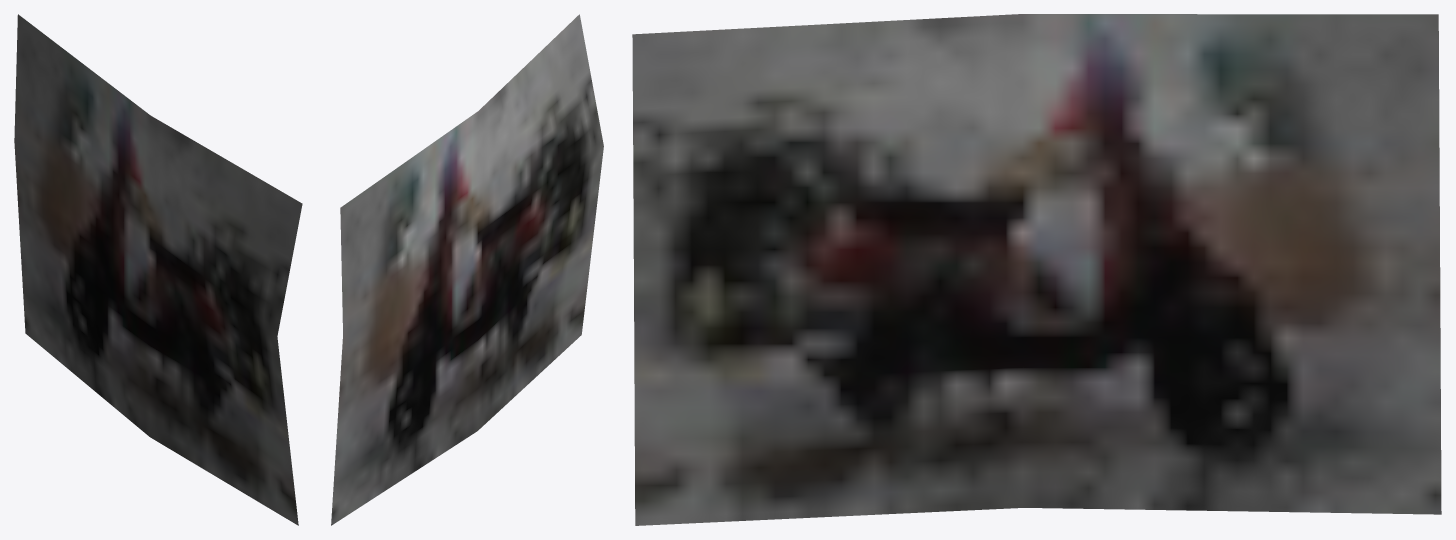
File: Photo03.FBX
3 views of the same model, side by side, from view 1: azimuth 30°, elevation 25°; view 2: azimuth 150°, elevation 25°; view 3: azimuth 270°, elevation 25° (orthographic). The views are drawn at different scales.
Visible parts, largest first — view 1: Photo03; view 2: Photo03; view 3: Photo03.
Boxes of the visible parts, <box> form: Photo03: <box>14,14,302,525</box>; Photo03: <box>331,14,603,525</box>; Photo03: <box>632,14,1441,525</box>.
Bounding box in the file's own units: 0.2868 × 3.59 × 5.29.
